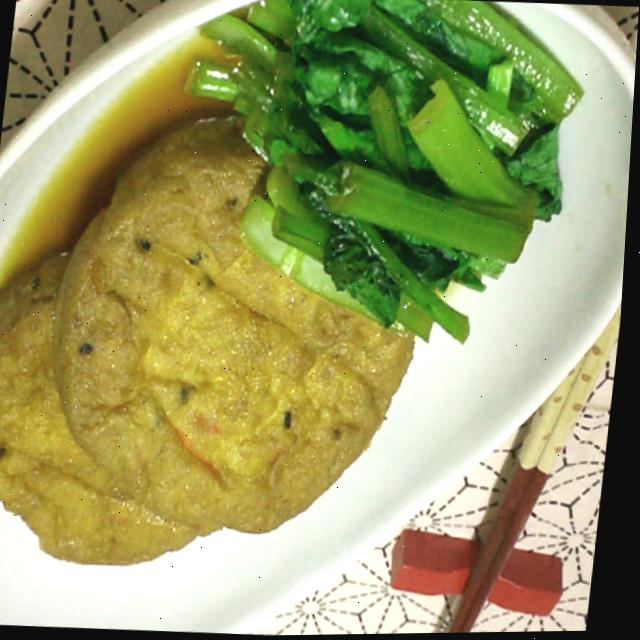熟制海鲜: (0, 97, 483, 616)
